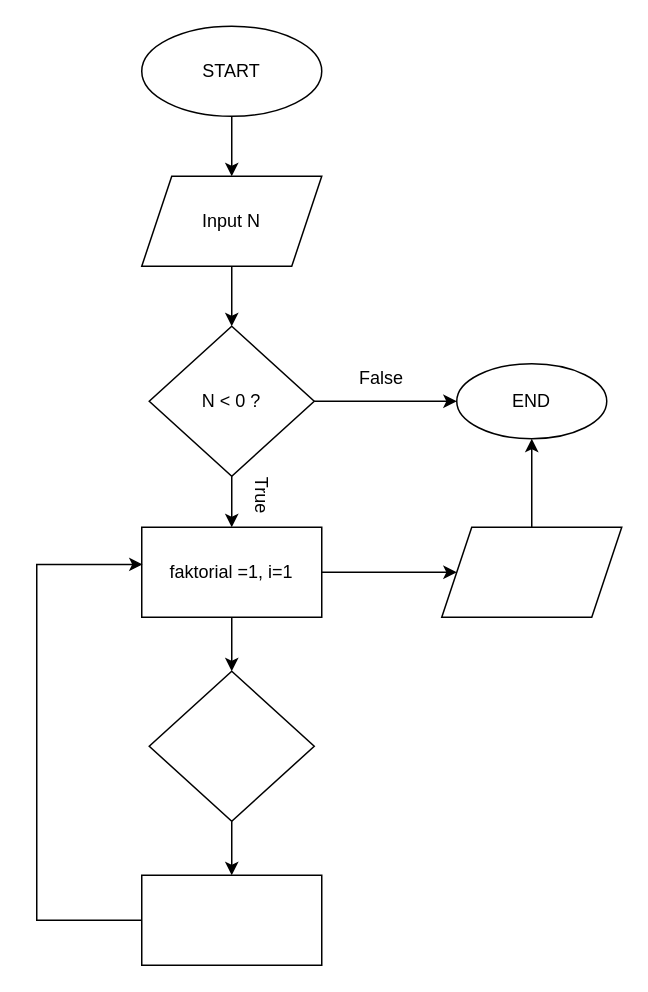
This 648x992 diagram has some shape labels left out. The box of each missing label's shape, as (x1, y1, x2, y2) in pixels:
faktorial = faktorial * i i = i + 1: (140, 874, 322, 965)
print faktorial: (440, 526, 622, 617)
while i <= n: (148, 670, 314, 821)
